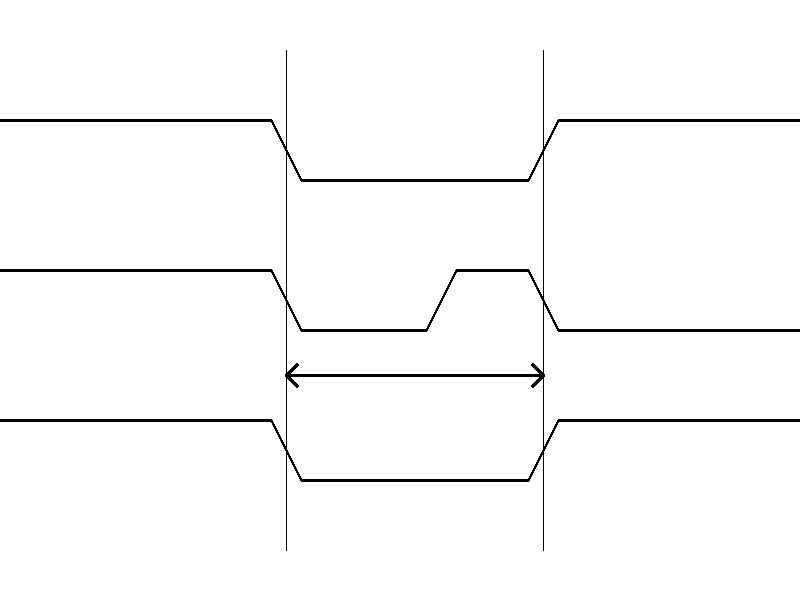double_arrow: (286, 360, 543, 390)
